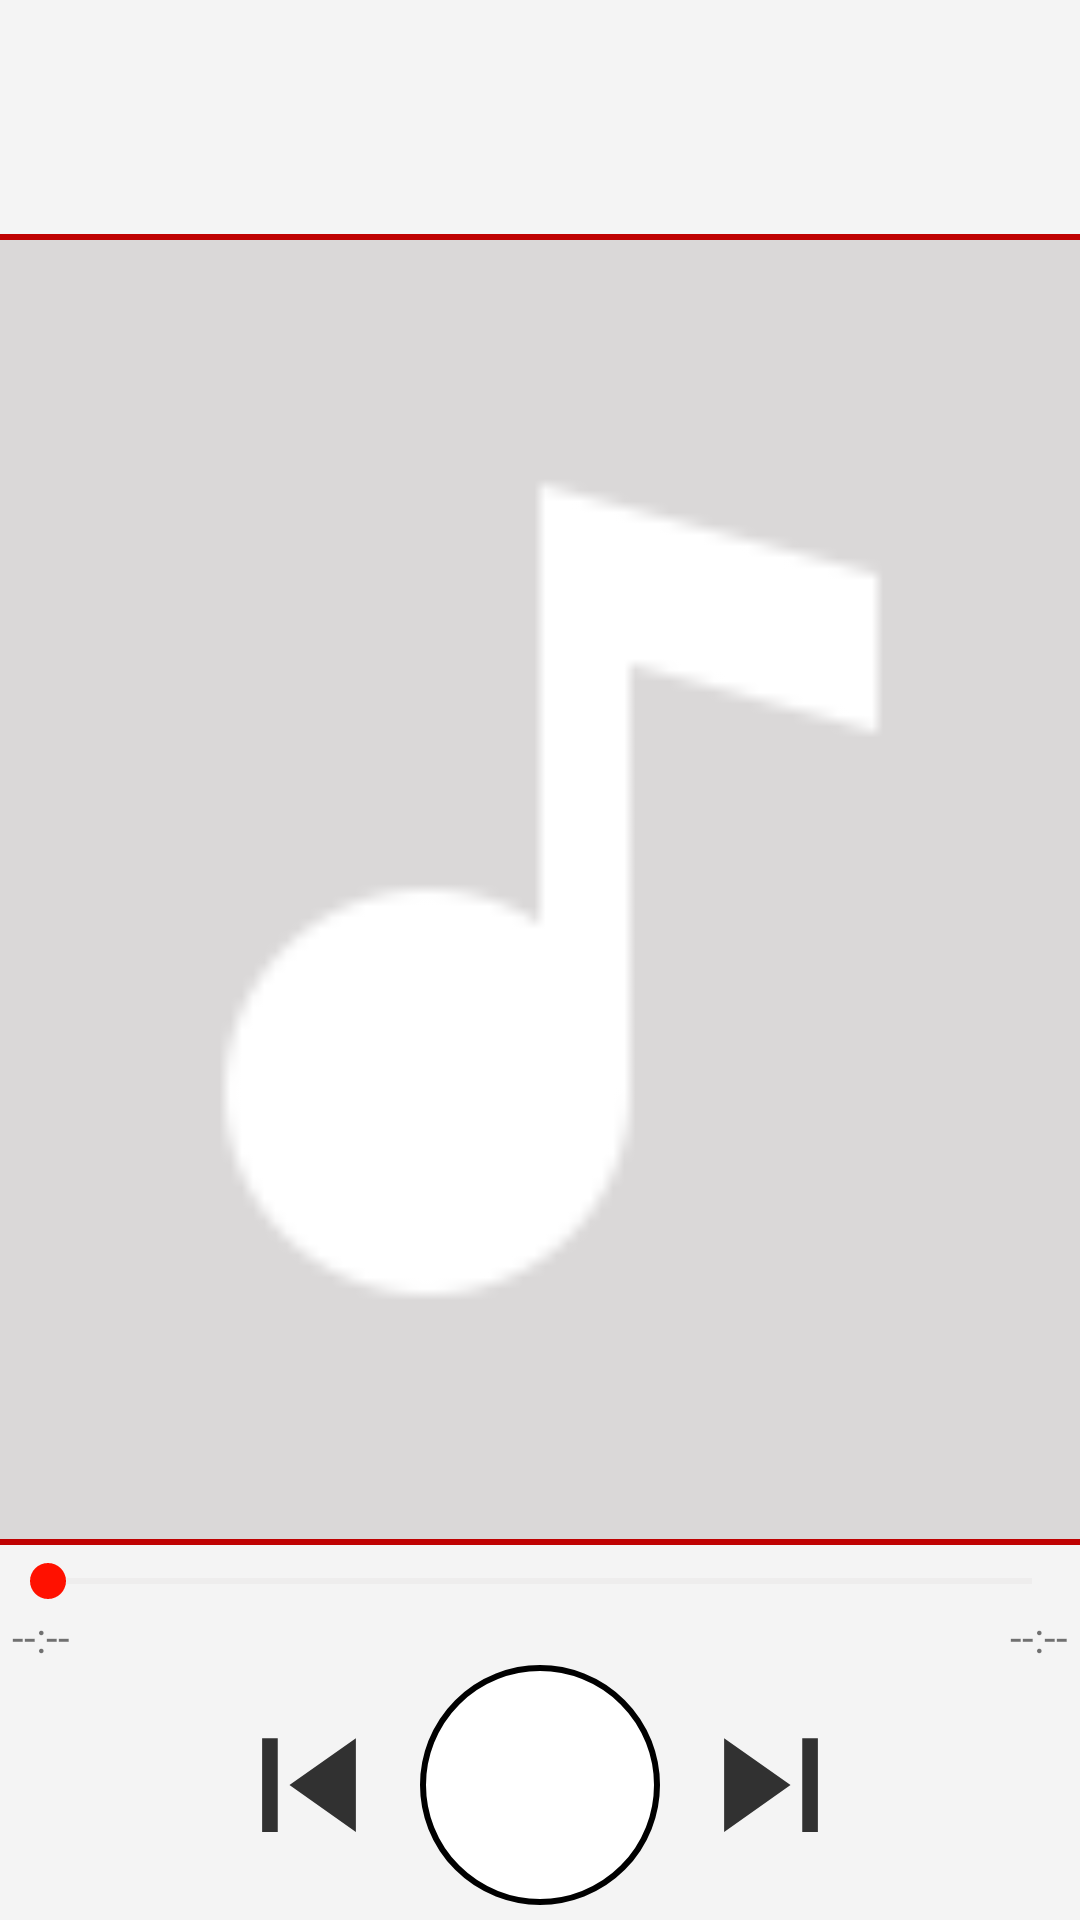

Named icons in this screenshot (1080 × 1920) and their bounding boxes, rect(x1, y1, x2, y2):
next: rect(724, 1738, 818, 1832)
previous: rect(262, 1738, 356, 1832)
